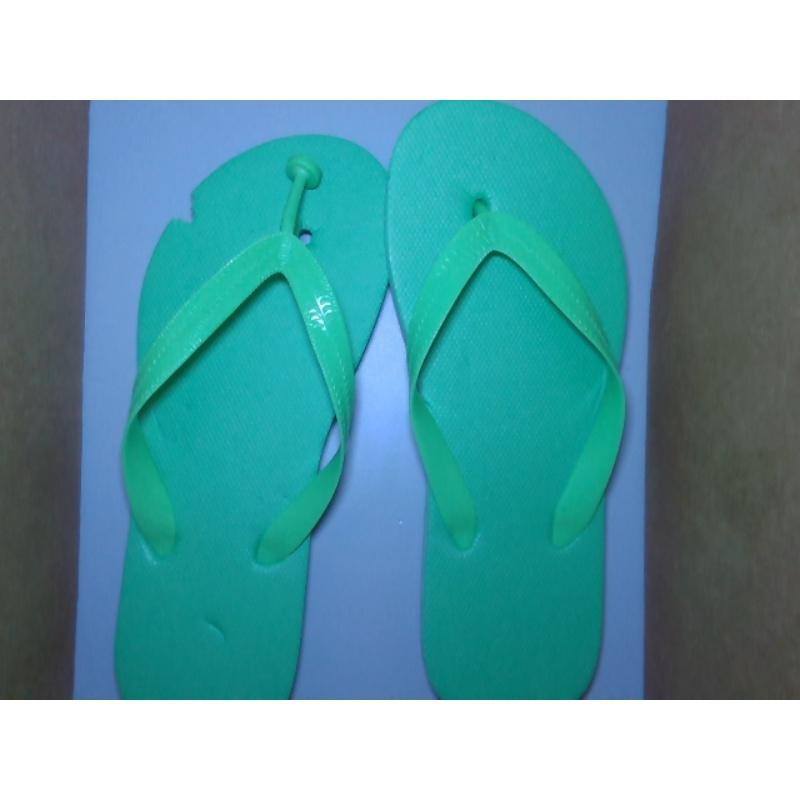chipped: (160, 179, 211, 237)
detached: (277, 147, 328, 209)
